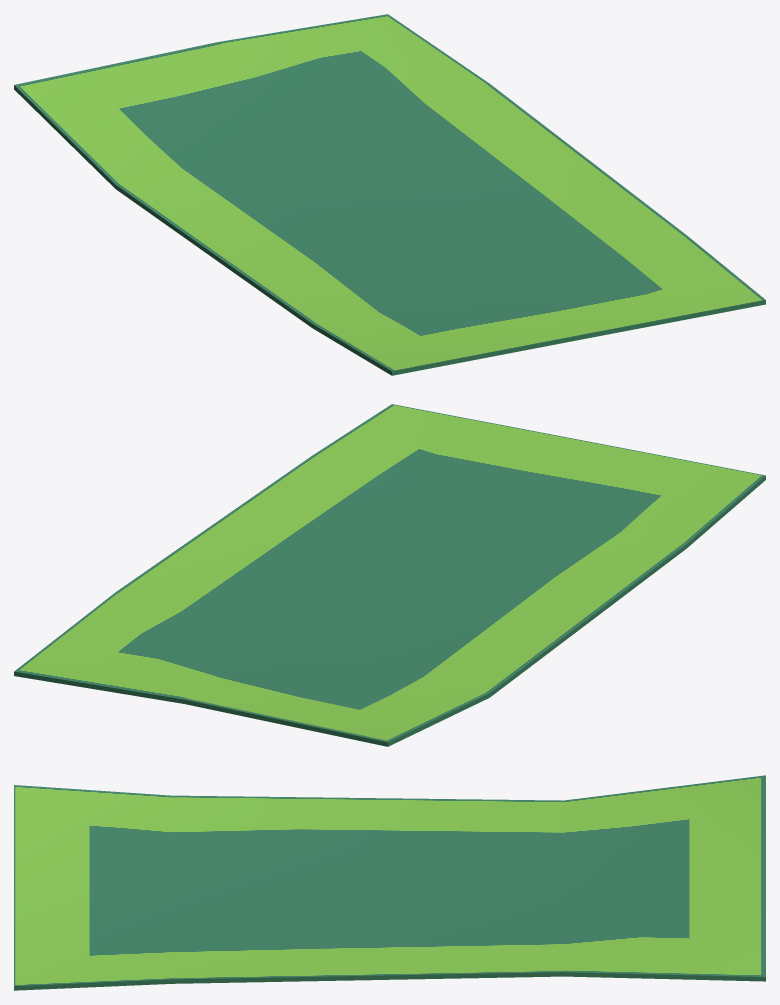
Rendered from collect_Cash02.fbx.
The picture shows the model from 3 angles, top to bottom: view 1: azimuth 30°, elevation 25°; view 2: azimuth 150°, elevation 25°; view 3: azimuth 270°, elevation 25°; orthographic projection.
Parts seen in each view (by area): view 1: note; view 2: note; view 3: note.
Boxes of the visible parts, x1,y1,x2,y2 form: note: [14, 14, 765, 375]; note: [14, 404, 765, 746]; note: [14, 775, 765, 990].
Bounding box in the file's own units: 11.02 × 1.09 × 19.3.
Materials: 1 (1 with a texture image).
